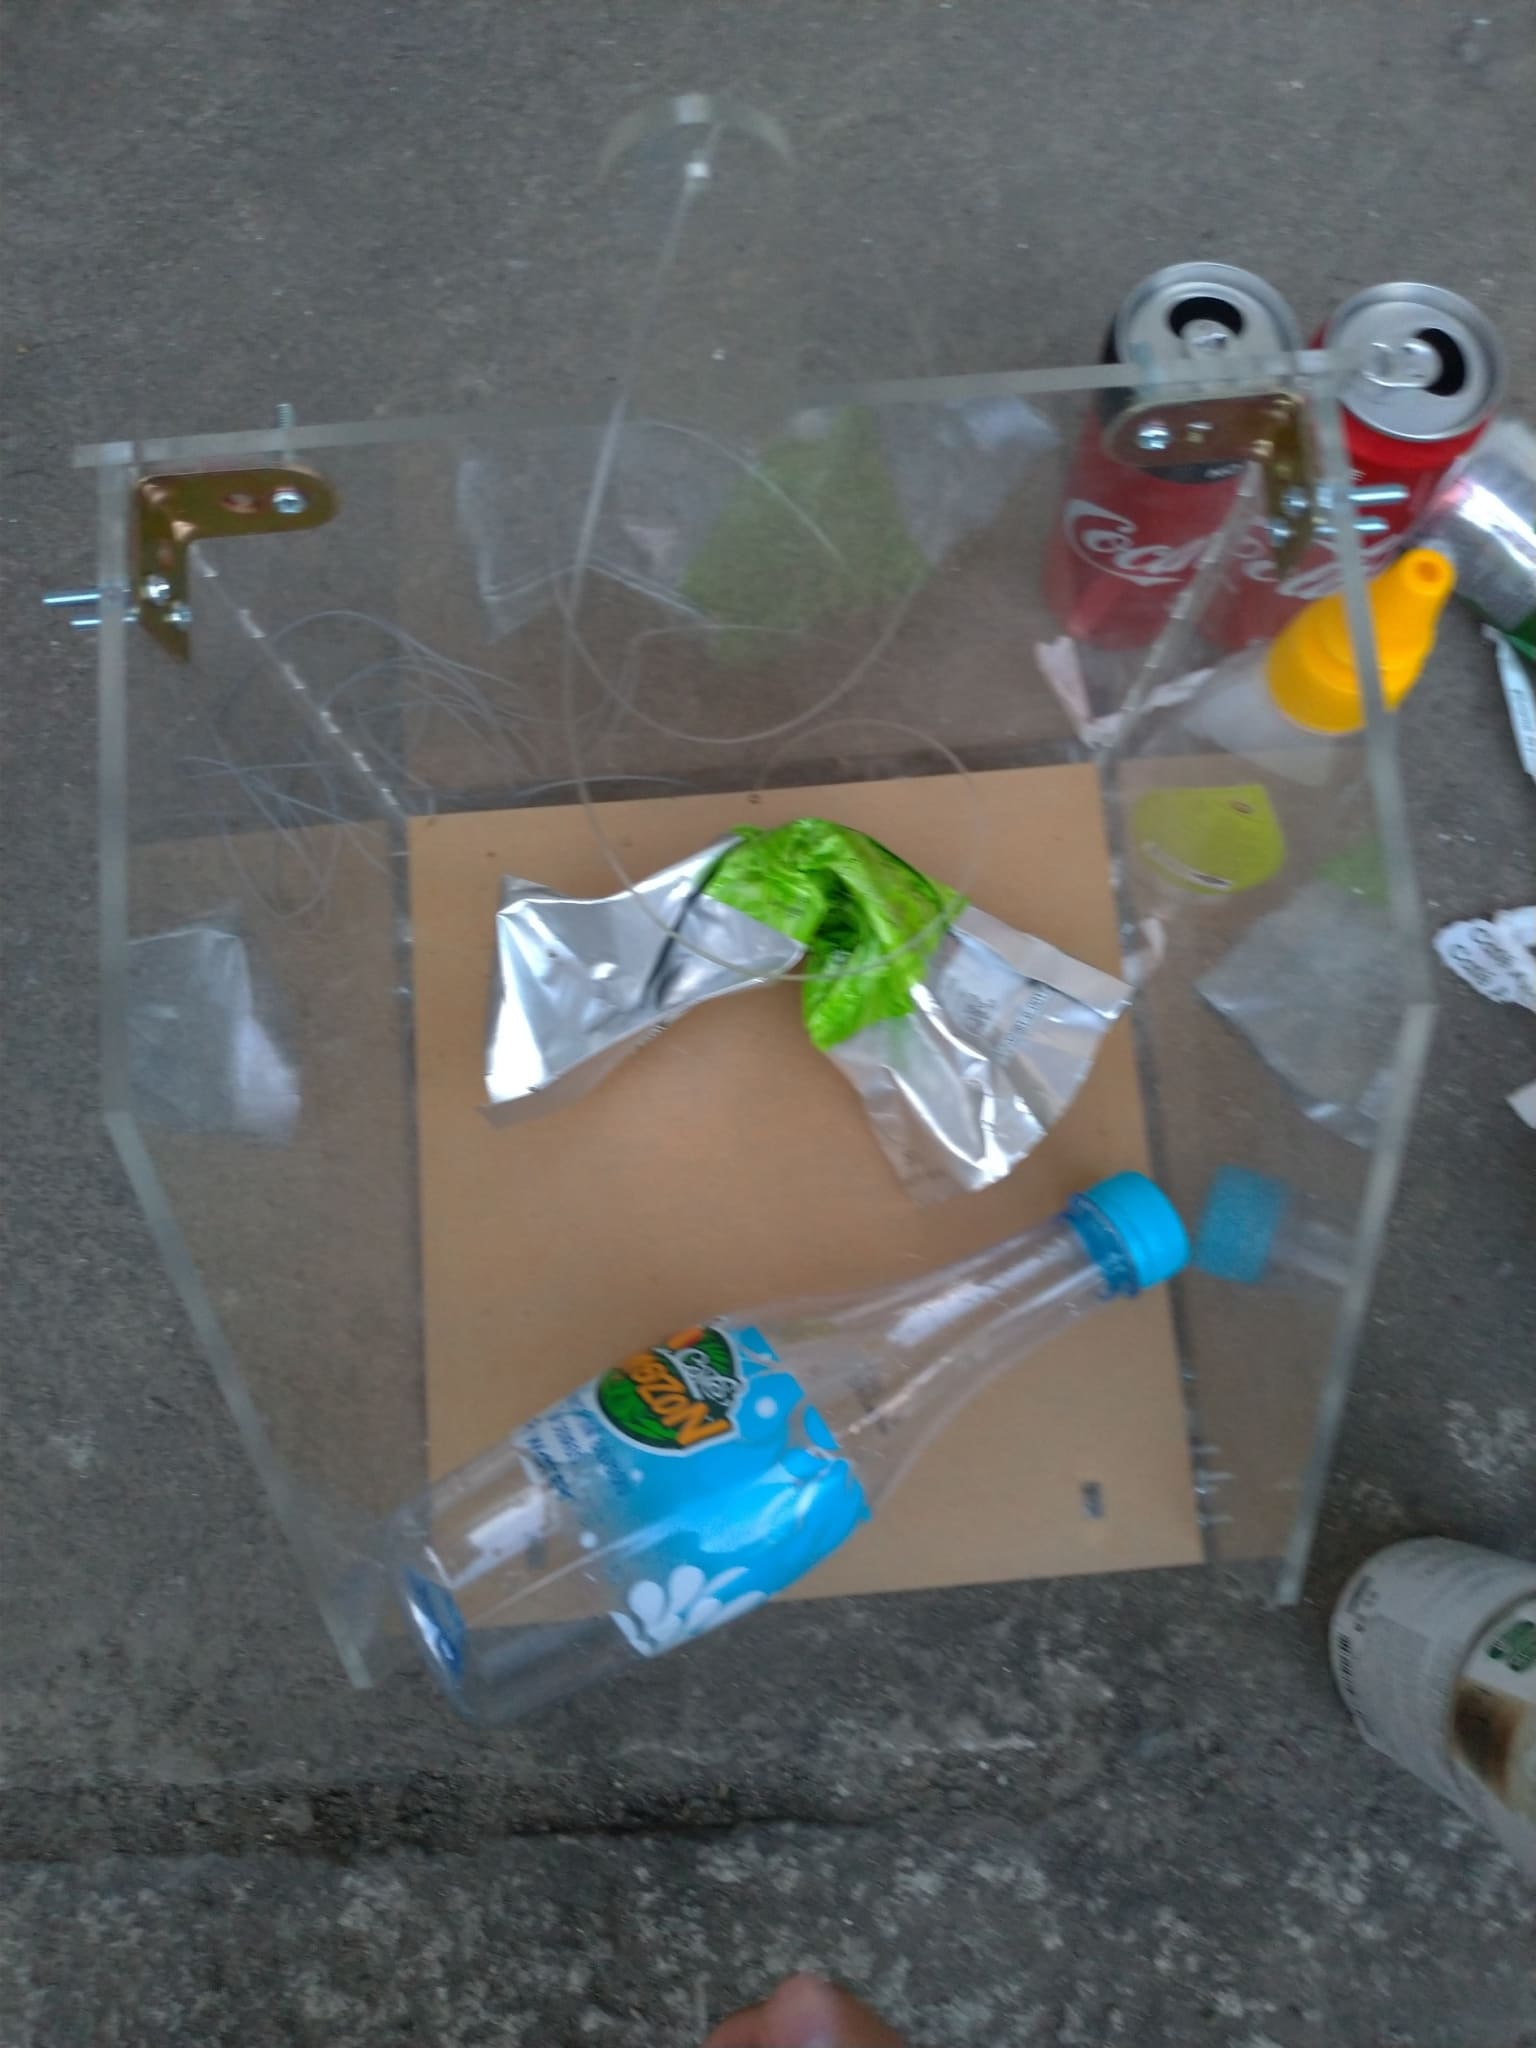AlCan: (1325, 1532, 1536, 1846)
Others: (470, 813, 1134, 1197)
PlasticBottle: (386, 1171, 1202, 1709), (1099, 539, 1450, 906), (1018, 255, 1292, 658), (1283, 258, 1486, 558)
